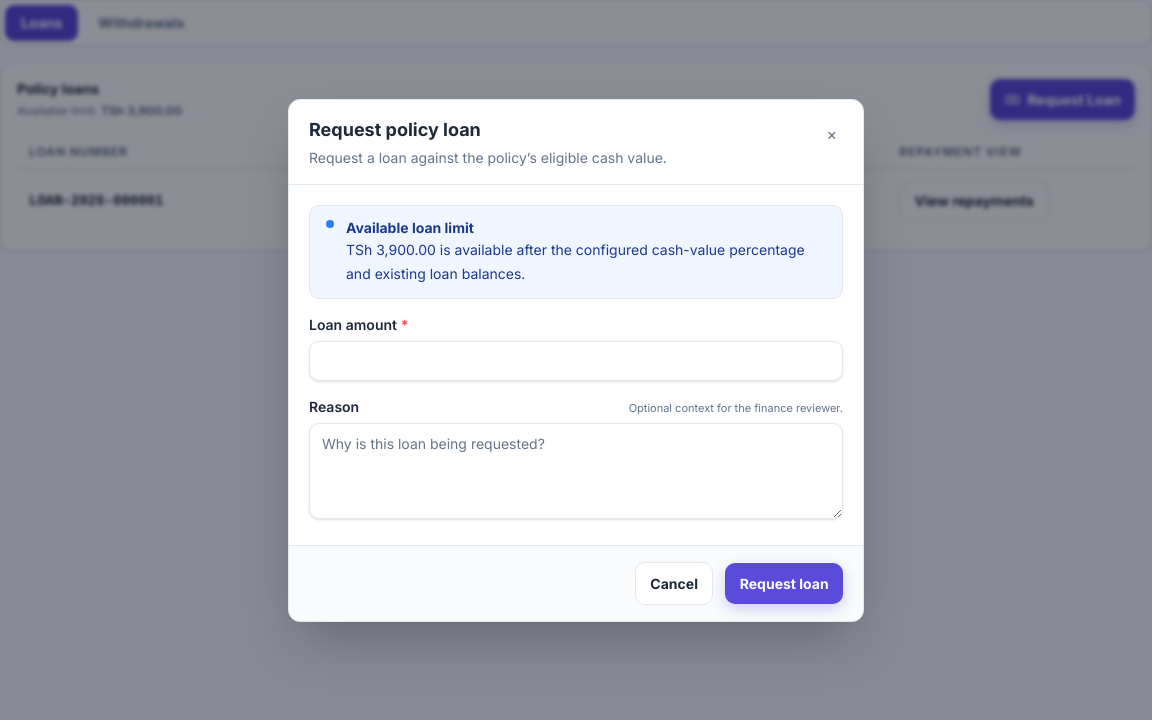
Test: PolicyFinancialsTab › blocks a loan amount above the configured maximum loan limit
Type "5000" into the number field labelled "Loan amount*". click: (576, 360)
box: [309,340,843,380]
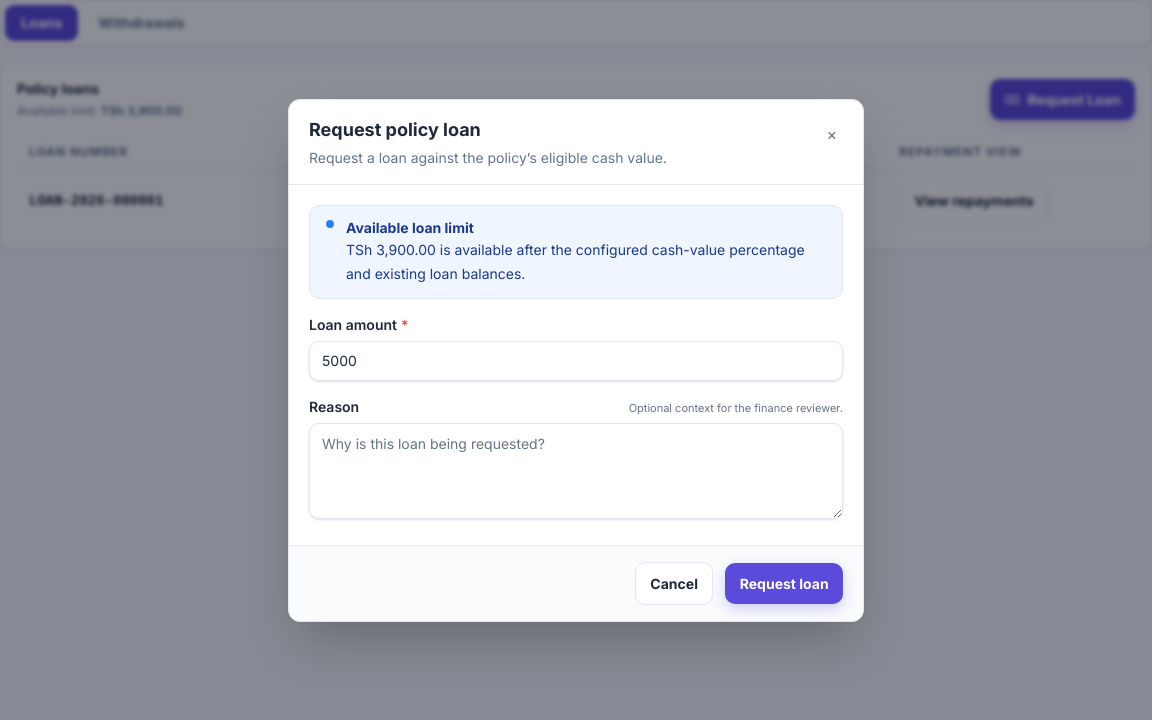
Click the button "Request loan". click: (784, 583)
box: [725,562,843,604]
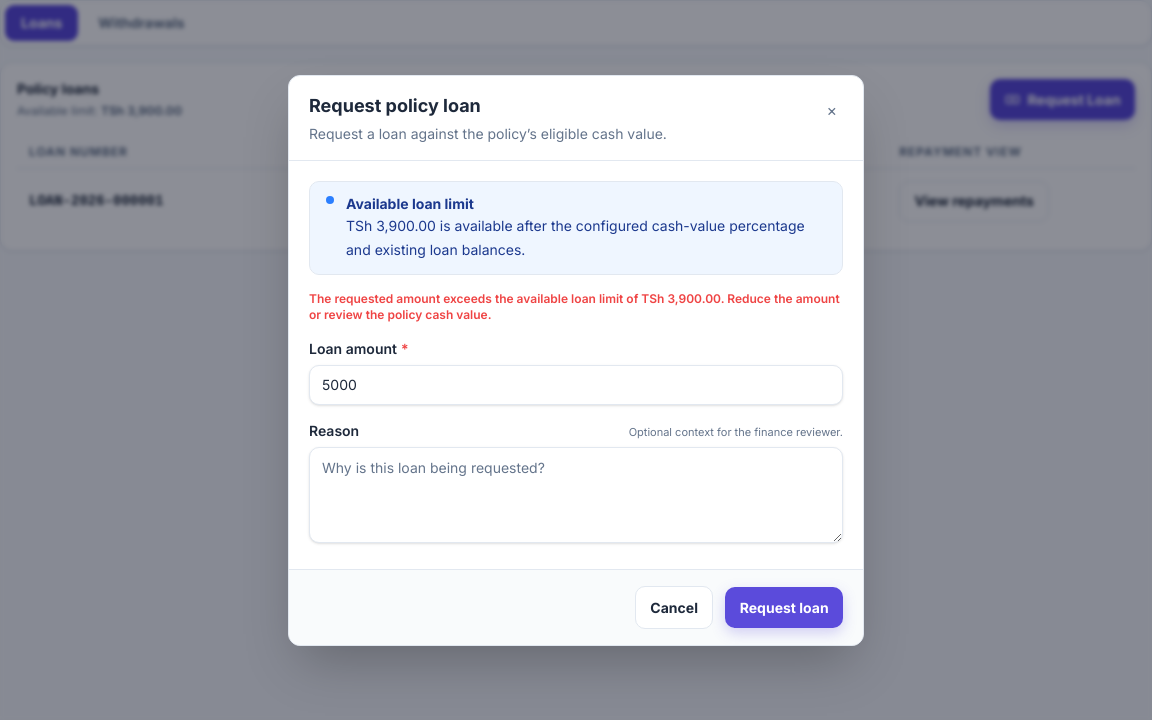
Expected: the text "exceeds the available loan limit" is shown, [309,290,840,322]
